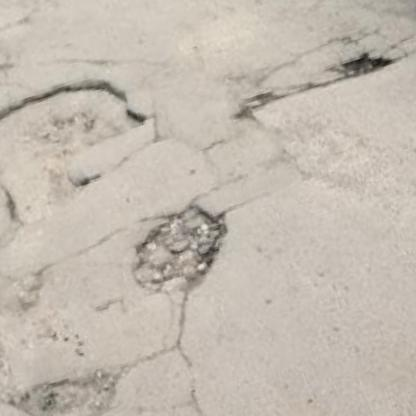pothole: (0, 61, 164, 247), (115, 192, 242, 308), (4, 359, 135, 416), (228, 86, 288, 124), (333, 47, 396, 82)
